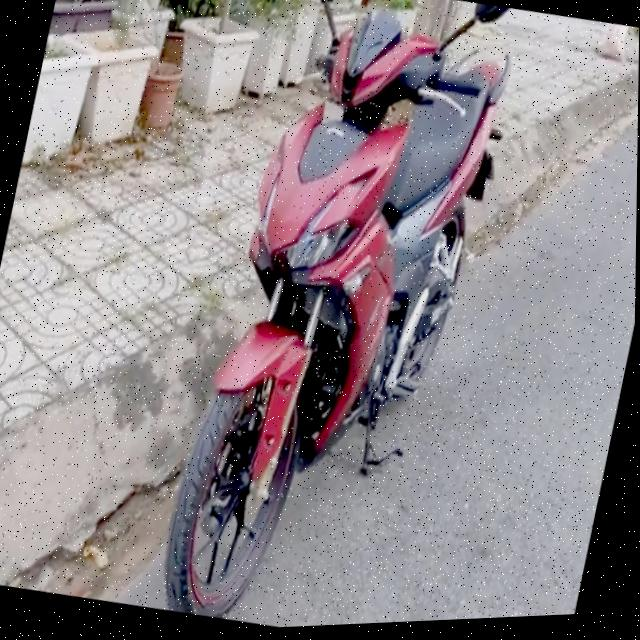motorcycle: (150, 0, 539, 633)
